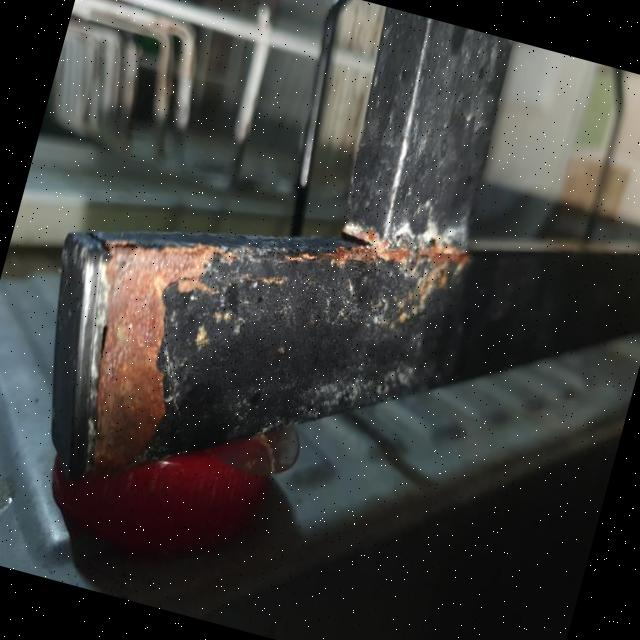Corrosion: (19, 147, 476, 561), (44, 214, 236, 489)
